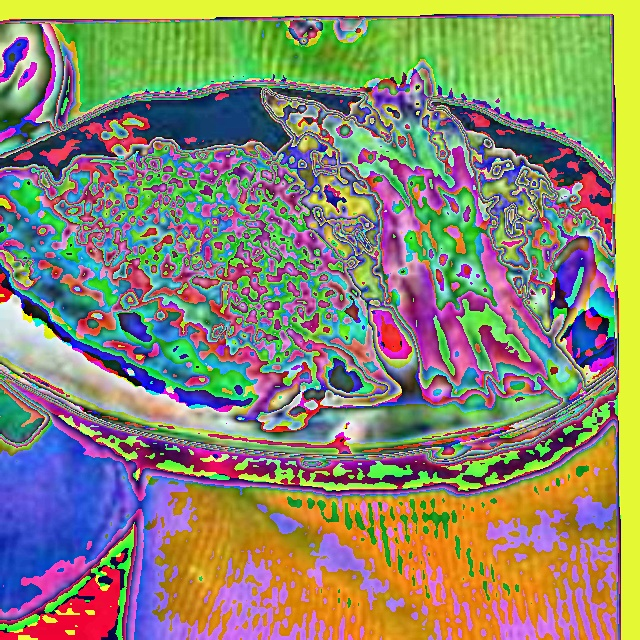background: (0, 58, 615, 424)
